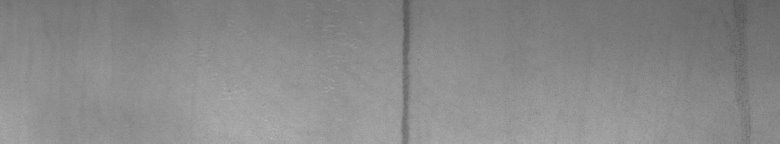hd: (396, 4, 415, 136)
